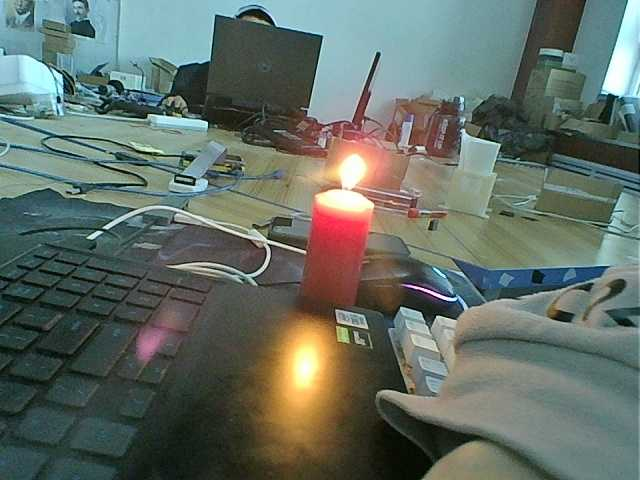candle: (293, 192, 382, 308)
fire: (324, 155, 376, 208)
